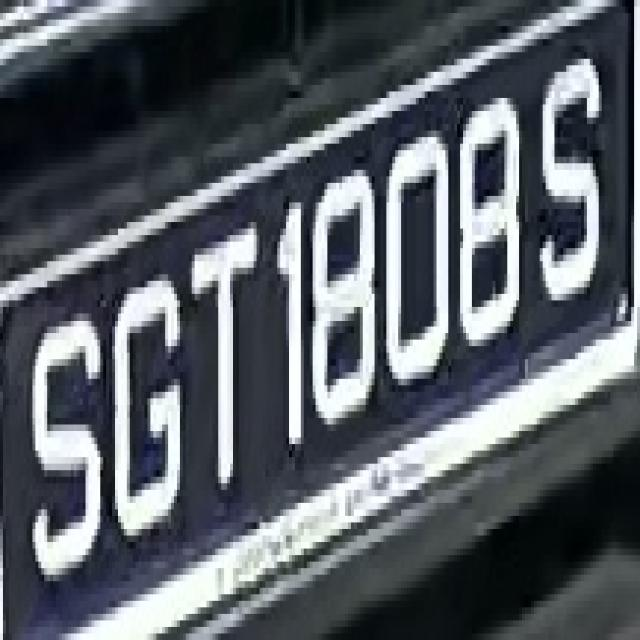0: (384, 111, 457, 405)
1: (277, 164, 307, 484)
8: (304, 150, 383, 438), (454, 78, 525, 360)
G: (115, 248, 186, 562)
S: (30, 268, 103, 594), (534, 46, 607, 307)
T: (174, 228, 265, 503)
